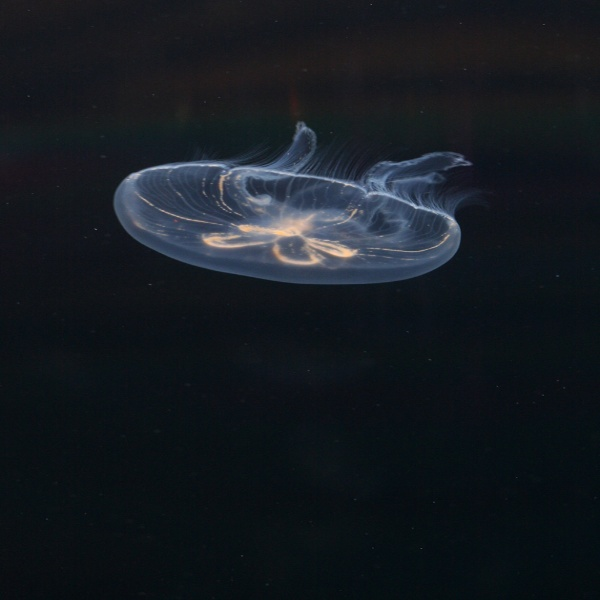Jellyfish: (110, 121, 484, 278)
